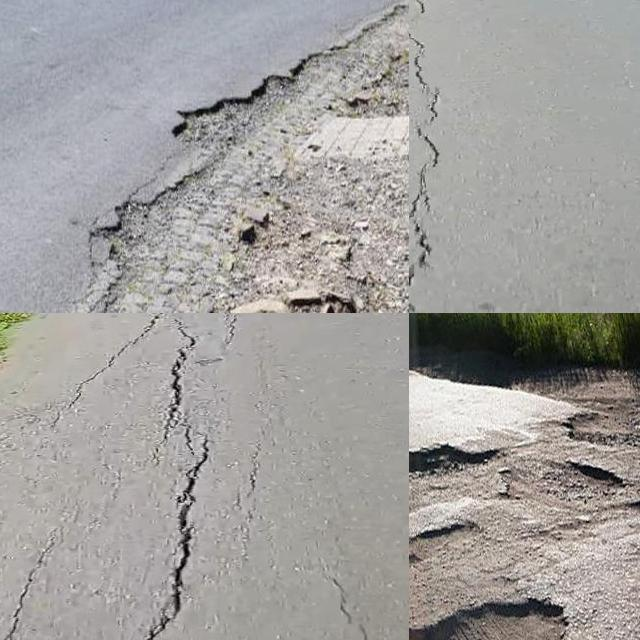Lubang: (409, 601, 569, 640), (409, 445, 490, 493)
Memanjang: (124, 316, 218, 640), (409, 0, 452, 313), (0, 535, 66, 640)
Pinggir: (84, 0, 409, 313)
